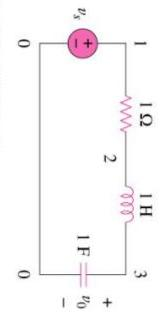Capacitor: (70, 258, 94, 284)
